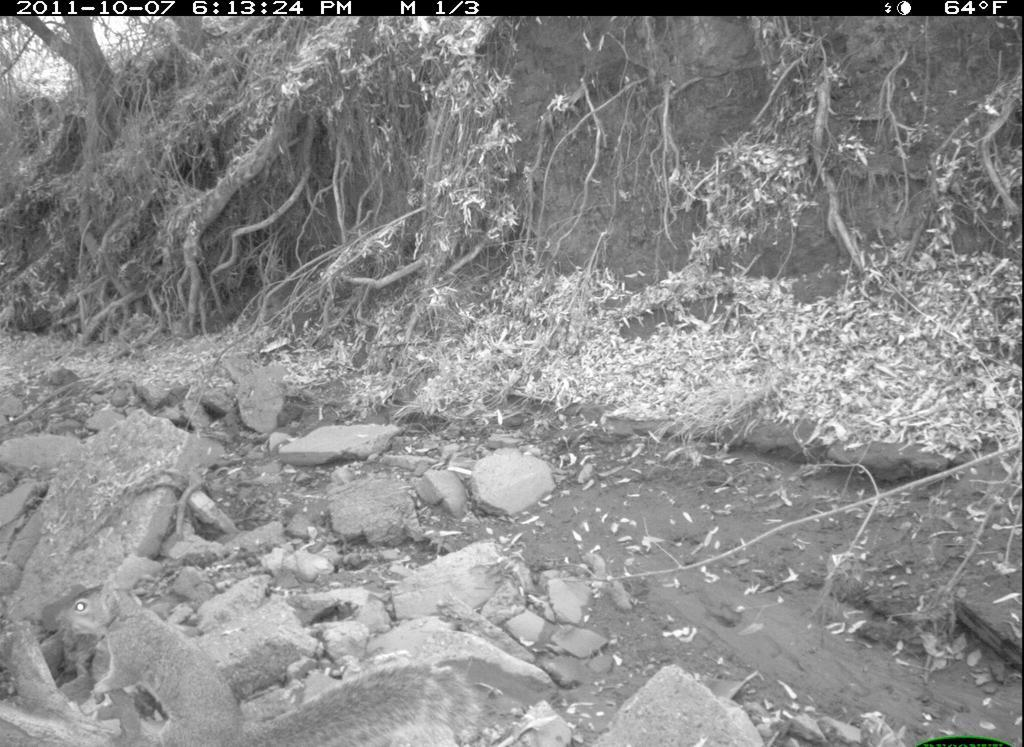squirrel: (43, 578, 488, 747)
